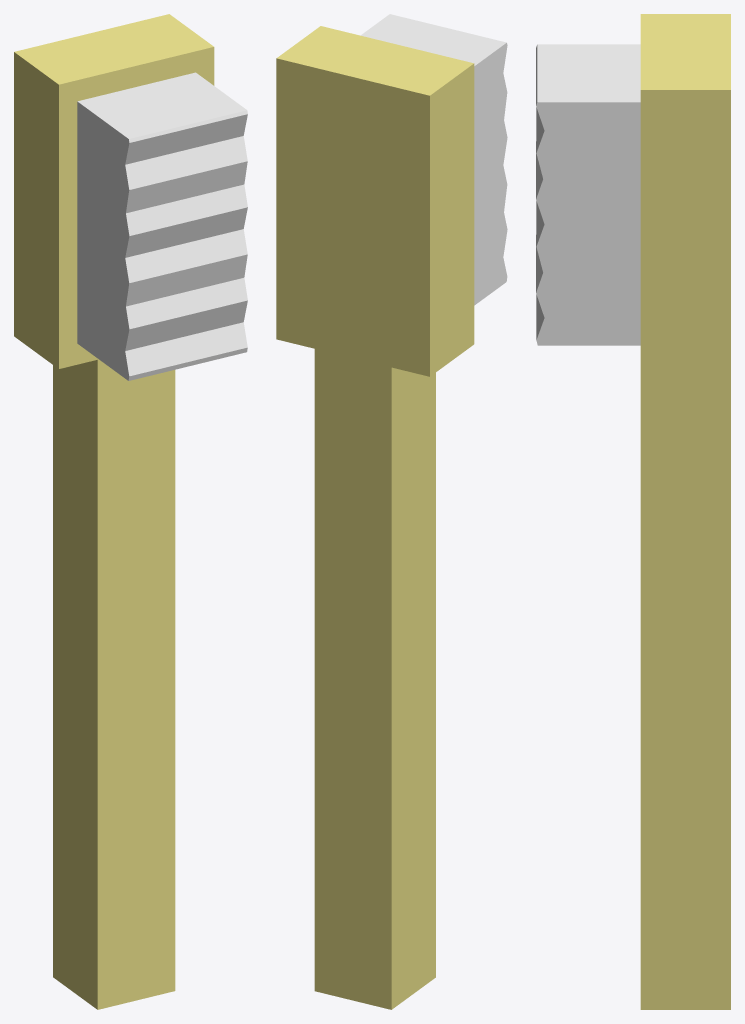
Rendered from toothbrush.fbx.
3 views of the same model, side by side, from view 1: azimuth 30°, elevation 25°; view 2: azimuth 150°, elevation 25°; view 3: azimuth 270°, elevation 25° (orthographic).
Parts seen in each view (by area): view 1: 개체_1.005; view 2: 개체_1.005; view 3: 개체_1.005.
Part boxes in pixels (<box>): 개체_1.005: <box>14,14,247,1009</box>; 개체_1.005: <box>276,14,507,1009</box>; 개체_1.005: <box>536,14,730,1009</box>.
Size of the model in its own units: 513 by 2952 by 555.
